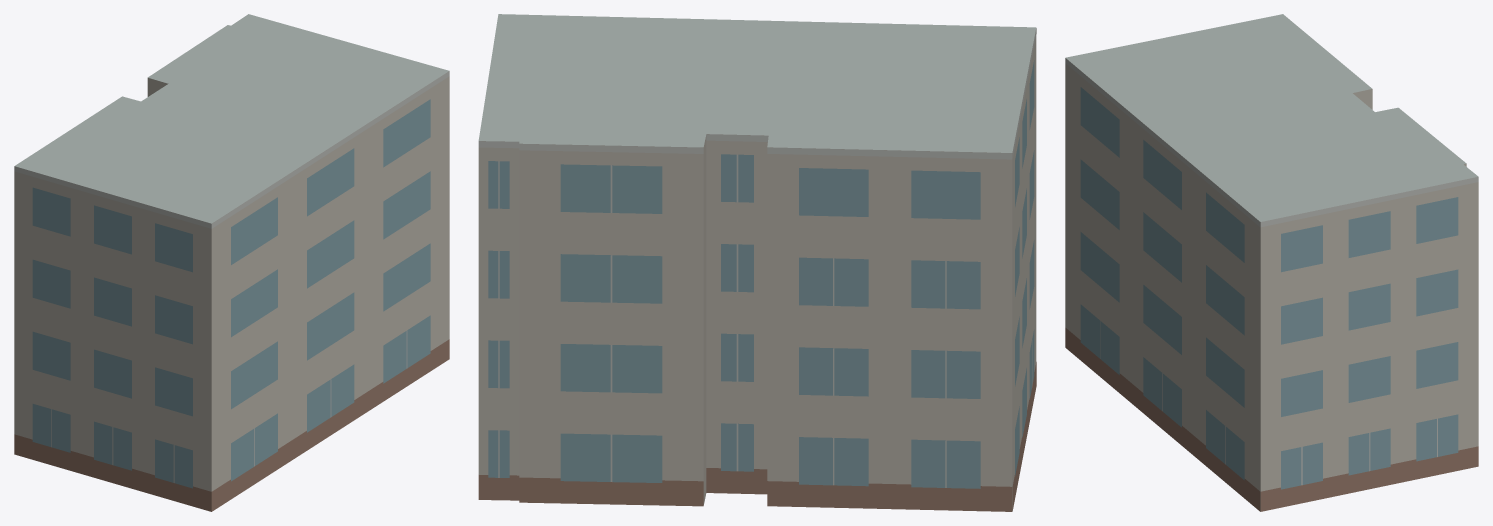
File: survey-upis-32738043.glb
3 renders of one model, left to right at view 1: azimuth 30°, elevation 25°; view 2: azimuth 150°, elevation 25°; view 3: azimuth 270°, elevation 25°, orthographic. The views are drawn at different scales.
Visible parts, largest first — view 1: survey-upis-32738043.tmp; view 2: survey-upis-32738043.tmp; view 3: survey-upis-32738043.tmp.
Part boxes in pixels (x1,y1,x2,y2): survey-upis-32738043.tmp: [14, 14, 449, 511]; survey-upis-32738043.tmp: [478, 14, 1036, 511]; survey-upis-32738043.tmp: [1065, 14, 1478, 511].
Bounding box in the file's own units: 20.58 × 13.36 × 17.28.
